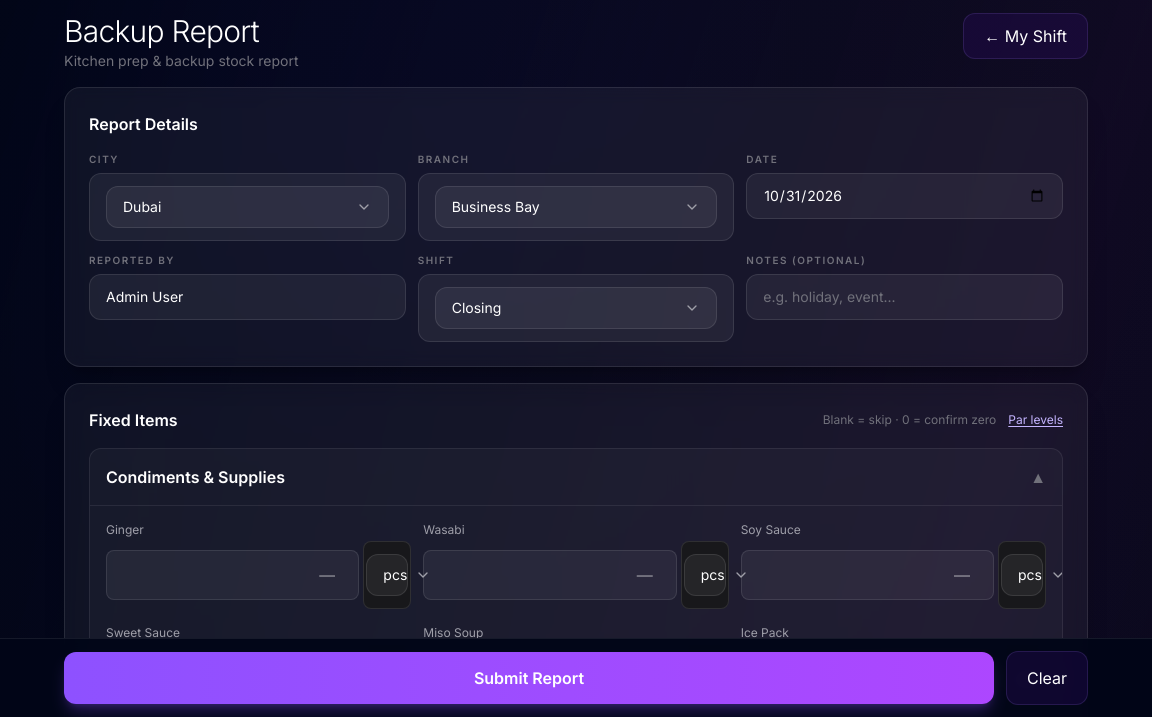
Test: /admin/backup — city switching › switching to Manila shows 'Hot Section'
This screenshot has width=1152, height=717.
expect the heading "Backup Report" is shown: met, box [64, 13, 259, 49]
Click the dropdown labelled "Dubai": point(142, 206) [106, 186, 389, 228]
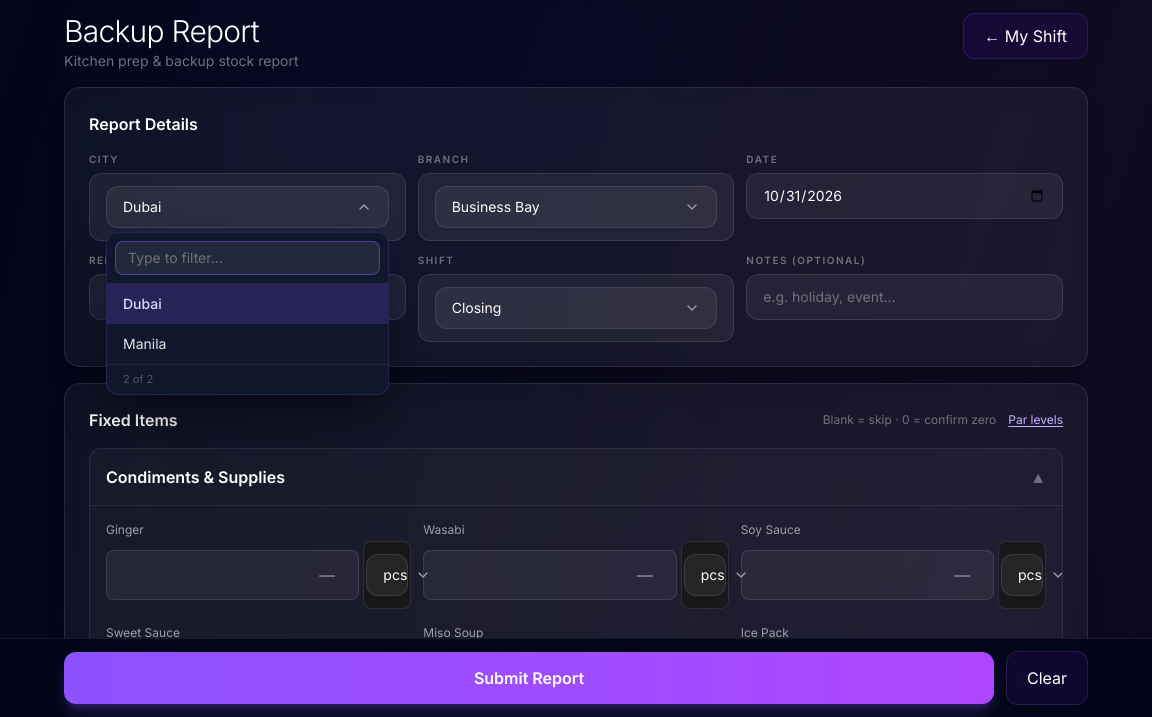
Click the option "Manila": point(145, 344) [107, 324, 388, 364]
(page scrolled)
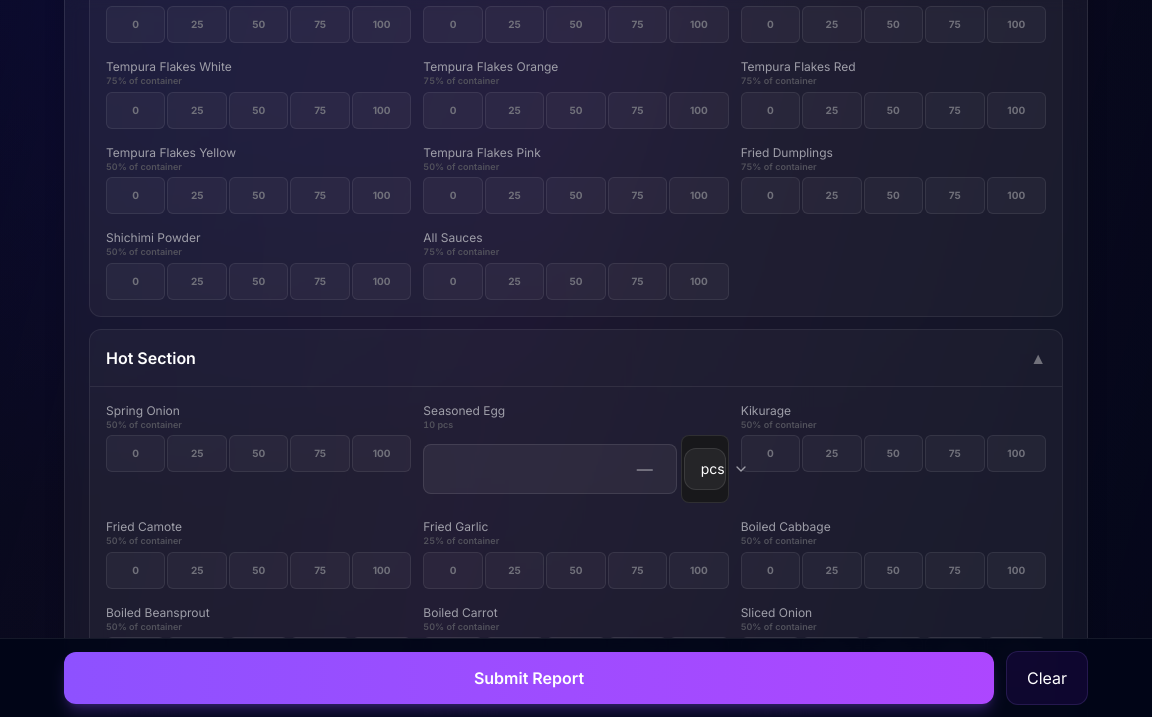
expect the text "Hot Section" is shown: met, box [106, 346, 196, 370]
